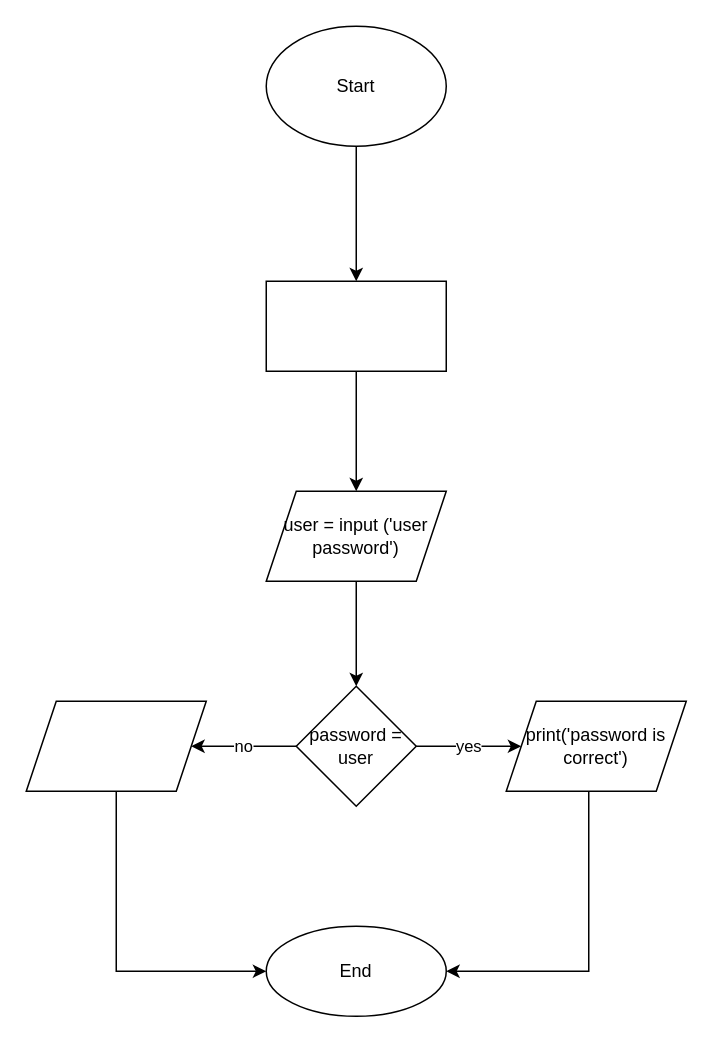
Image size: 713x1043. Some labels were removed from this diagram. Each missing label, with the centre of its shape:
"password = 'Hello World'" belongs at (355,325).
"print('password is incorrect')" belongs at (115,745).
